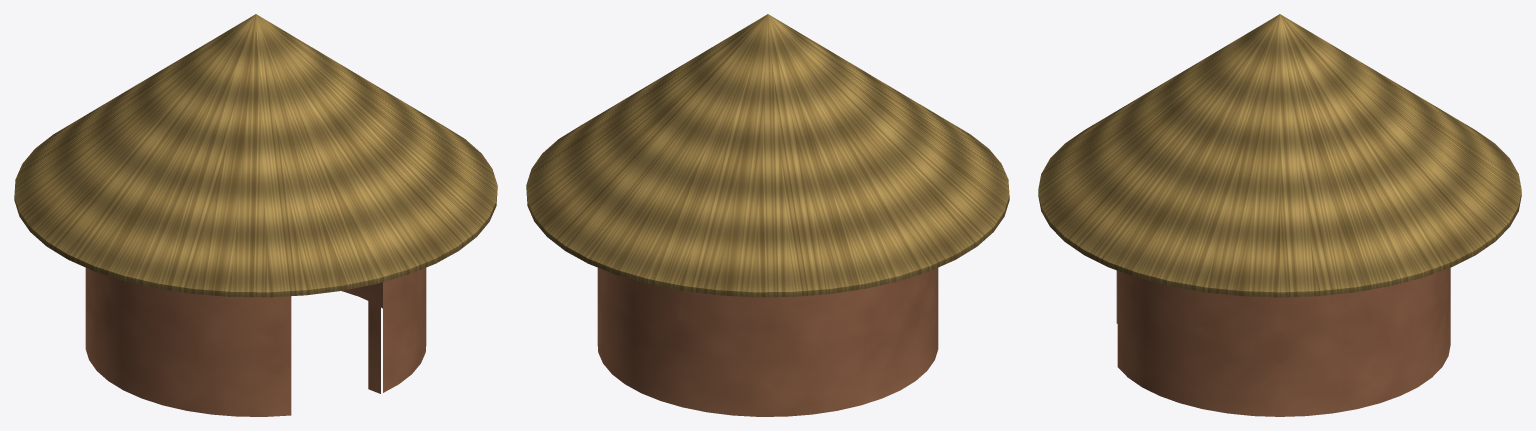
Rendered from hut_round.gltf.
3 renders of one model, left to right at view 1: azimuth 30°, elevation 25°; view 2: azimuth 150°, elevation 25°; view 3: azimuth 270°, elevation 25°, orthographic.
Parts seen in each view (by area): view 1: hut_round; view 2: hut_round; view 3: hut_round.
Part boxes in pixels (box(x1,y1,x2,y2)): hut_round: box(14, 14, 497, 416); hut_round: box(526, 14, 1009, 416); hut_round: box(1038, 14, 1521, 416).
Size of the model in its own units: 5.1 by 3.85 by 5.1.
2 materials, 2 textured.
